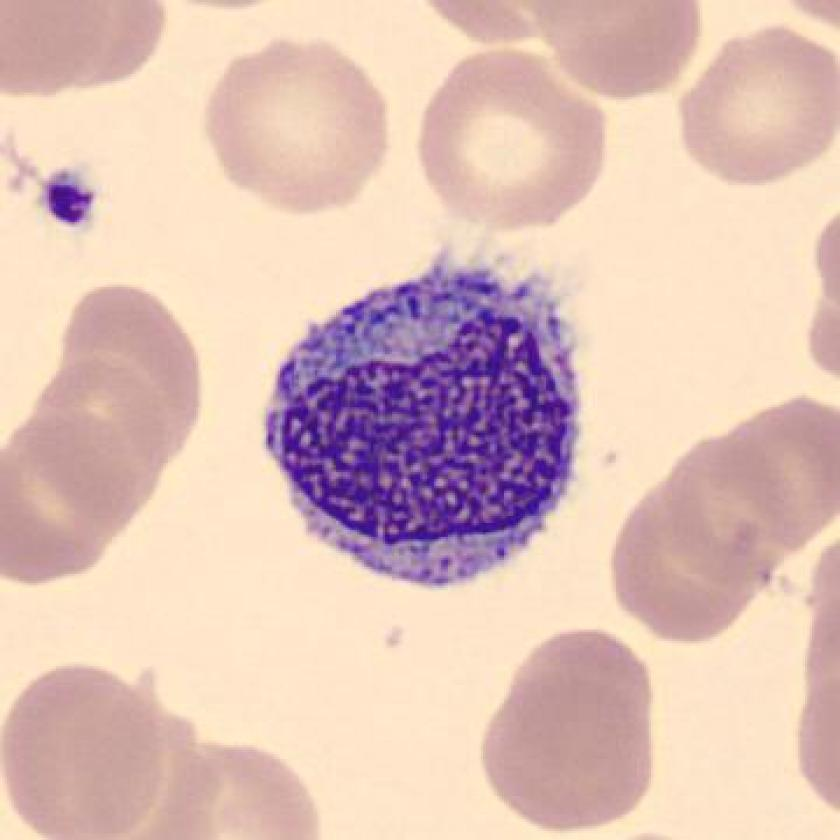monocyte: (241, 221, 608, 607)
